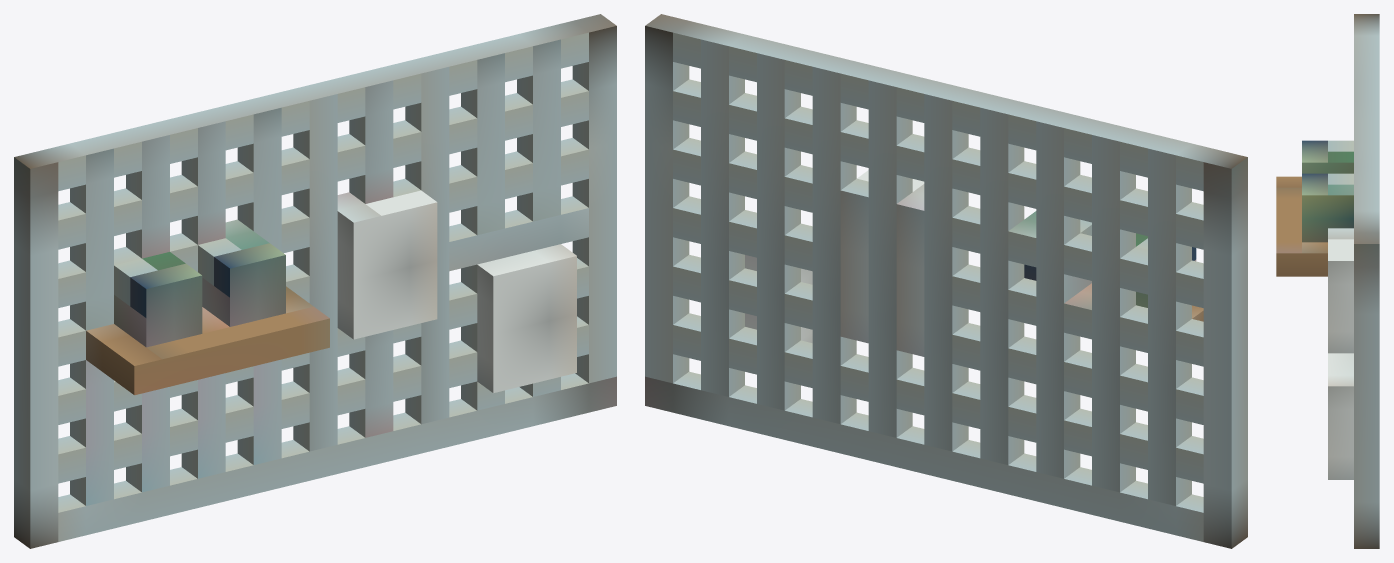
The model's file is DashBoard_00.fbx.
3 renders of one model, left to right at view 1: azimuth 30°, elevation 25°; view 2: azimuth 150°, elevation 25°; view 3: azimuth 270°, elevation 25°, orthographic. The views are drawn at different scales.
Parts seen in each view (by area): view 1: DashBoard_00; view 2: DashBoard_00; view 3: DashBoard_00.
Part boxes in pixels (<box>): DashBoard_00: <box>14,14,616,548</box>; DashBoard_00: <box>645,14,1247,548</box>; DashBoard_00: <box>1276,14,1379,548</box>.
Bounding box in the file's own units: 105 × 20 × 65.
2 materials, 2 textured.
